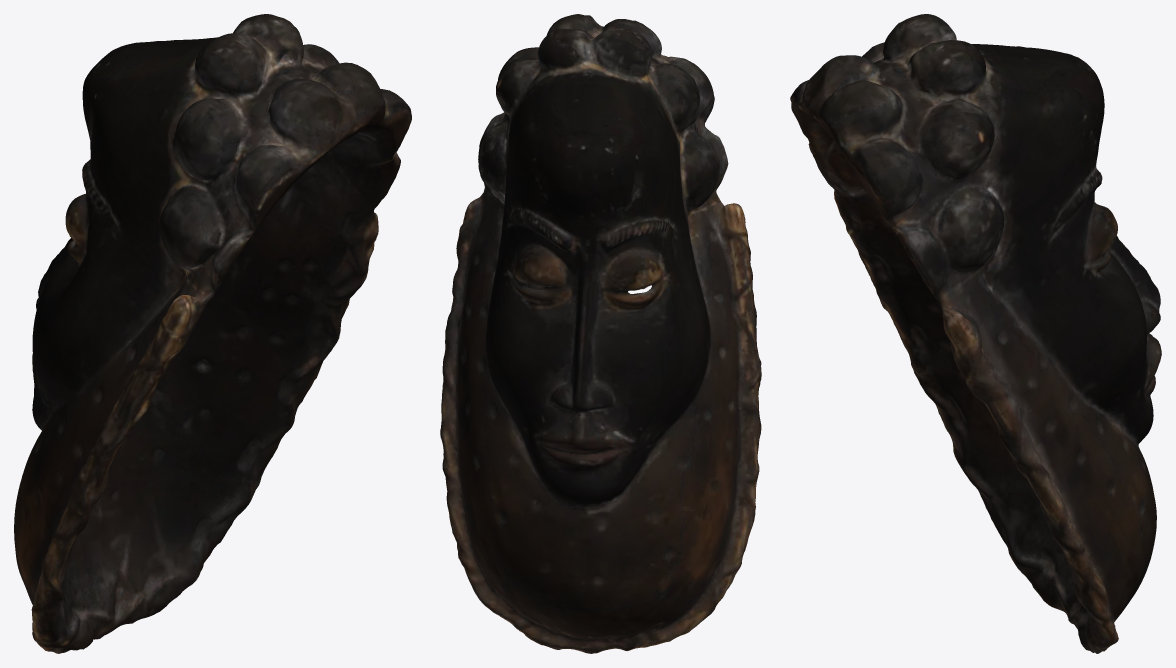
File: preview.glb
The picture shows the model from 3 angles, left to right: view 1: azimuth 30°, elevation 25°; view 2: azimuth 150°, elevation 25°; view 3: azimuth 270°, elevation 25°; orthographic projection. The views are drawn at different scales.
Parts seen in each view (by area): view 1: Object_2; view 2: Object_2; view 3: Object_2.
Boxes of the visible parts, bbox=[...] form: Object_2: bbox=[14, 14, 411, 653]; Object_2: bbox=[440, 14, 761, 653]; Object_2: bbox=[790, 14, 1161, 653].
Size of the model in its own units: 208 by 382 by 202.
Materials: 1 (1 with a texture image).
